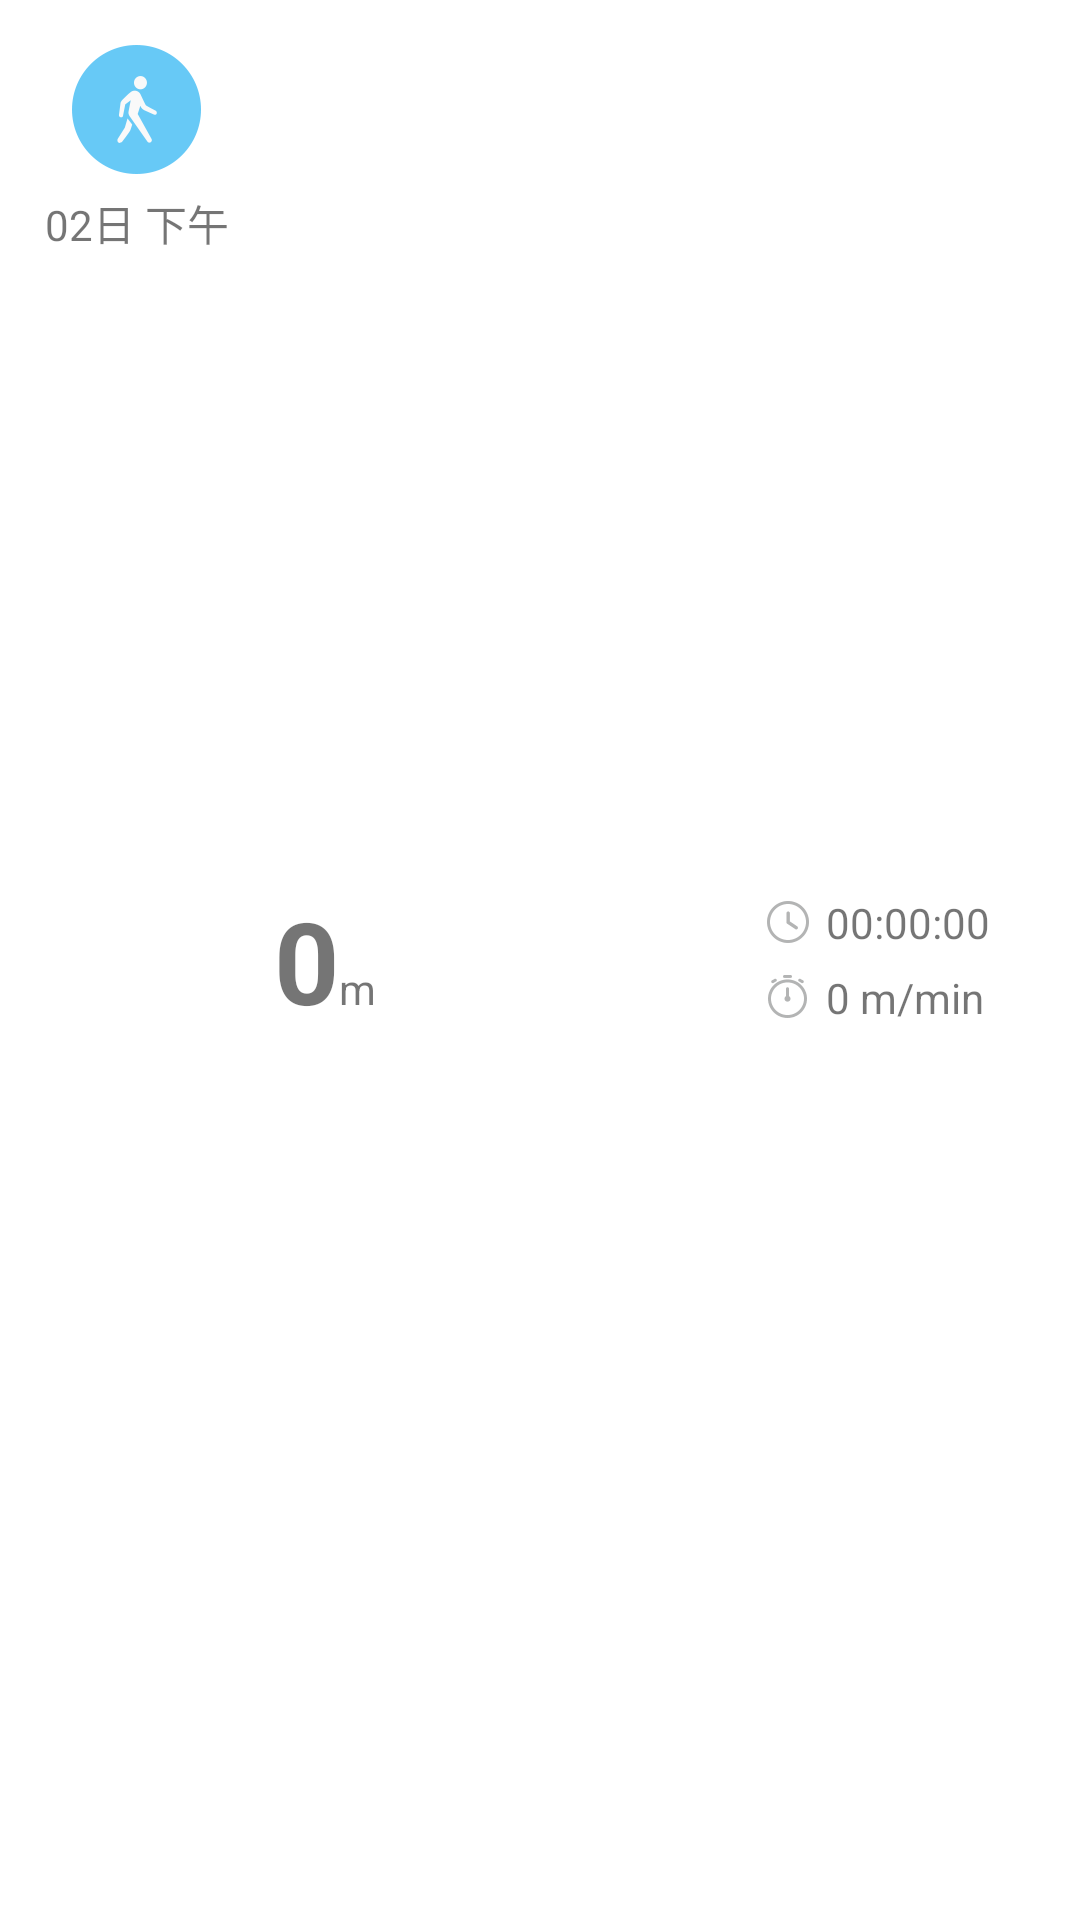

Where icons sit on this 1080 x 1920 app screen, as (x1, y1, x2, y2):
history item walk: (72, 45, 201, 174)
